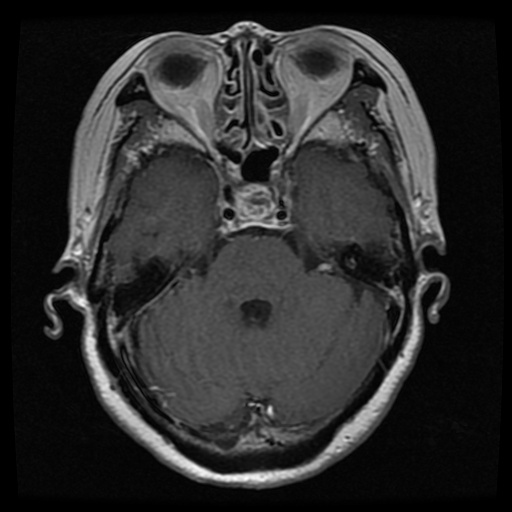pituitary: (235, 184, 275, 217)
